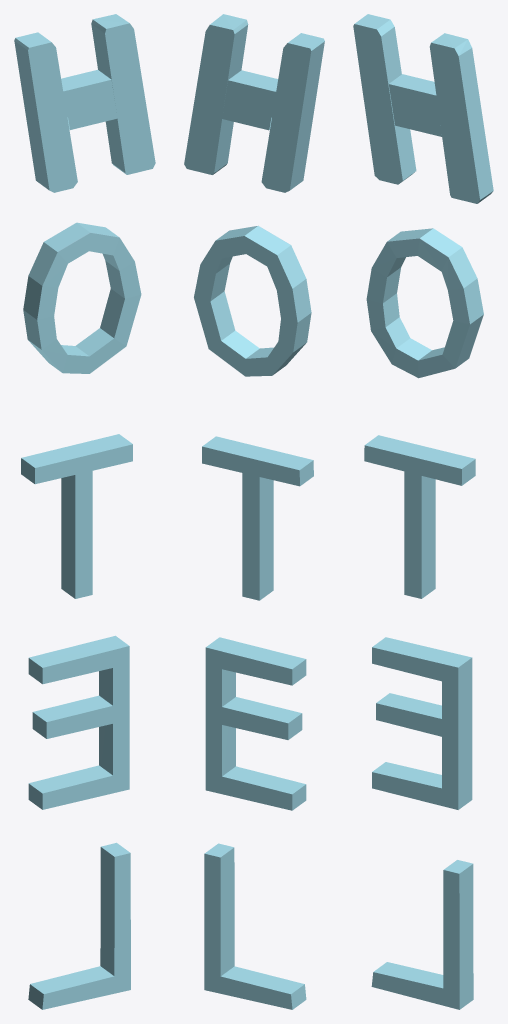
Rendered from Props-TextBanner-Hotel_HOTEL.fbx.
3 renders of one model, left to right at view 1: azimuth 30°, elevation 25°; view 2: azimuth 150°, elevation 25°; view 3: azimuth 330°, elevation 25°, orthographic.
Visible parts, largest first — view 1: Props-TextBanner-Hotel_HOTEL; view 2: Props-TextBanner-Hotel_HOTEL; view 3: Props-TextBanner-Hotel_HOTEL.
Part boxes in pixels (x1,y1,x2,y2): Props-TextBanner-Hotel_HOTEL: (14,14,155,1009); Props-TextBanner-Hotel_HOTEL: (184,14,324,1009); Props-TextBanner-Hotel_HOTEL: (353,14,493,1009).
Bounding box in the file's own units: 25.8 × 187 × 5.62.
